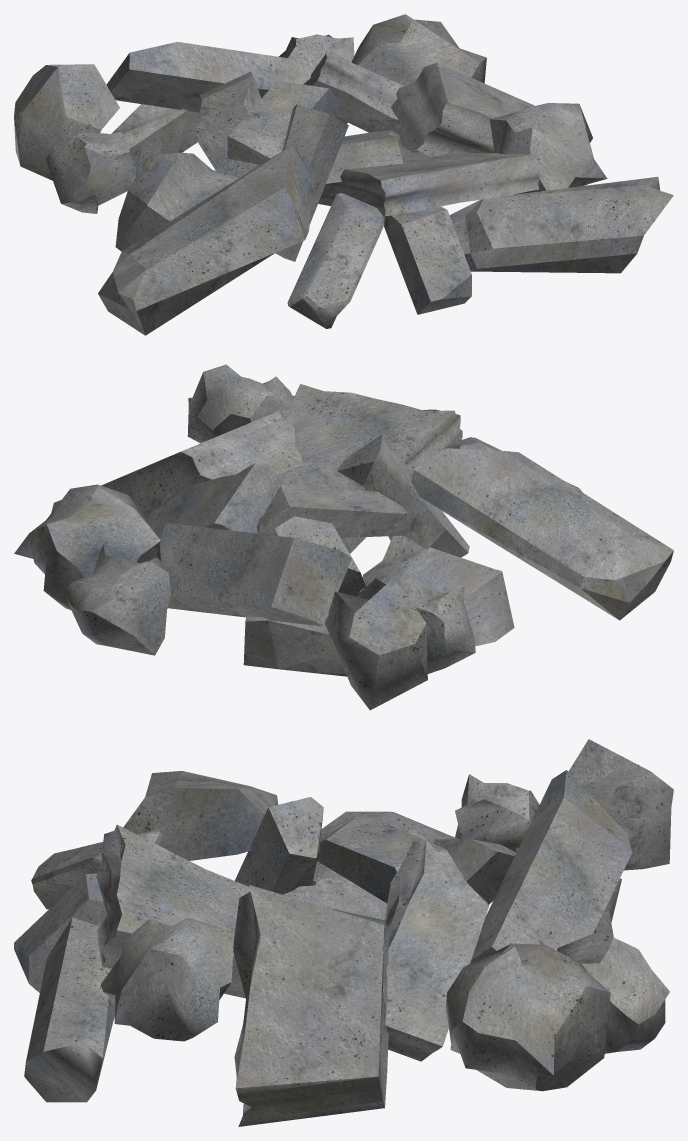
The model's file is object_rubble.fbx.
3 renders of one model, top to bottom at view 1: azimuth 30°, elevation 25°; view 2: azimuth 150°, elevation 25°; view 3: azimuth 270°, elevation 25°, orthographic. The views are drawn at different scales.
Visible parts, largest first — view 1: object_rubble6, object_rubble17, object_rubble4, object_rubble1, object_rubble15, object_rubble19, object_rubble9, object_rubble11, object_rubble12, object_rubble7, object_rubble5, object_rubble3 (+7 smaller); view 2: object_rubble6, object_rubble1, object_rubble4, object_rubble5, object_rubble19, object_rubble14, object_rubble15, object_rubble7, object_rubble10, object_rubble18, object_rubble16, object_rubble11 (+4 smaller); view 3: object_rubble15, object_rubble5, object_rubble1, object_rubble18, object_rubble11, object_rubble17, object_rubble4, object_rubble6, object_rubble19, object_rubble14, object_rubble16, object_rubble10 (+7 smaller).
Part boxes in pixels (<box>): object_rubble6: <box>98,146,314,335</box>; object_rubble17: <box>449,176,673,273</box>; object_rubble4: <box>318,152,539,216</box>; object_rubble1: <box>106,42,347,123</box>; object_rubble15: <box>391,62,534,157</box>; object_rubble19: <box>14,64,119,180</box>; object_rubble9: <box>287,193,384,328</box>; object_rubble11: <box>490,103,607,194</box>; object_rubble12: <box>384,206,471,314</box>; object_rubble7: <box>115,152,239,251</box>; object_rubble5: <box>351,14,486,85</box>; object_rubble3: <box>45,131,135,213</box>; object_rubble6: <box>411,448,673,620</box>; object_rubble1: <box>156,522,351,626</box>; object_rubble4: <box>275,383,462,553</box>; object_rubble5: <box>14,484,160,609</box>; object_rubble19: <box>325,578,427,710</box>; object_rubble14: <box>67,544,170,655</box>; object_rubble15: <box>101,410,302,520</box>; object_rubble7: <box>357,535,514,646</box>; object_rubble10: <box>257,484,406,537</box>; object_rubble18: <box>147,462,281,558</box>; object_rubble16: <box>337,434,469,557</box>; object_rubble11: <box>187,364,293,443</box>; object_rubble15: <box>233,885,390,1126</box>; object_rubble5: <box>446,943,610,1091</box>; object_rubble1: <box>470,770,632,963</box>; object_rubble18: <box>384,840,488,1061</box>; object_rubble11: <box>100,918,233,1041</box>; object_rubble17: <box>24,917,114,1102</box>; object_rubble4: <box>96,824,250,998</box>; object_rubble6: <box>123,771,278,860</box>; object_rubble19: <box>533,739,673,870</box>; object_rubble14: <box>557,932,669,1053</box>; object_rubble16: <box>235,797,323,894</box>; object_rubble10: <box>317,813,466,903</box>.
Size of the model in its own units: 234 by 67.71 by 214.
